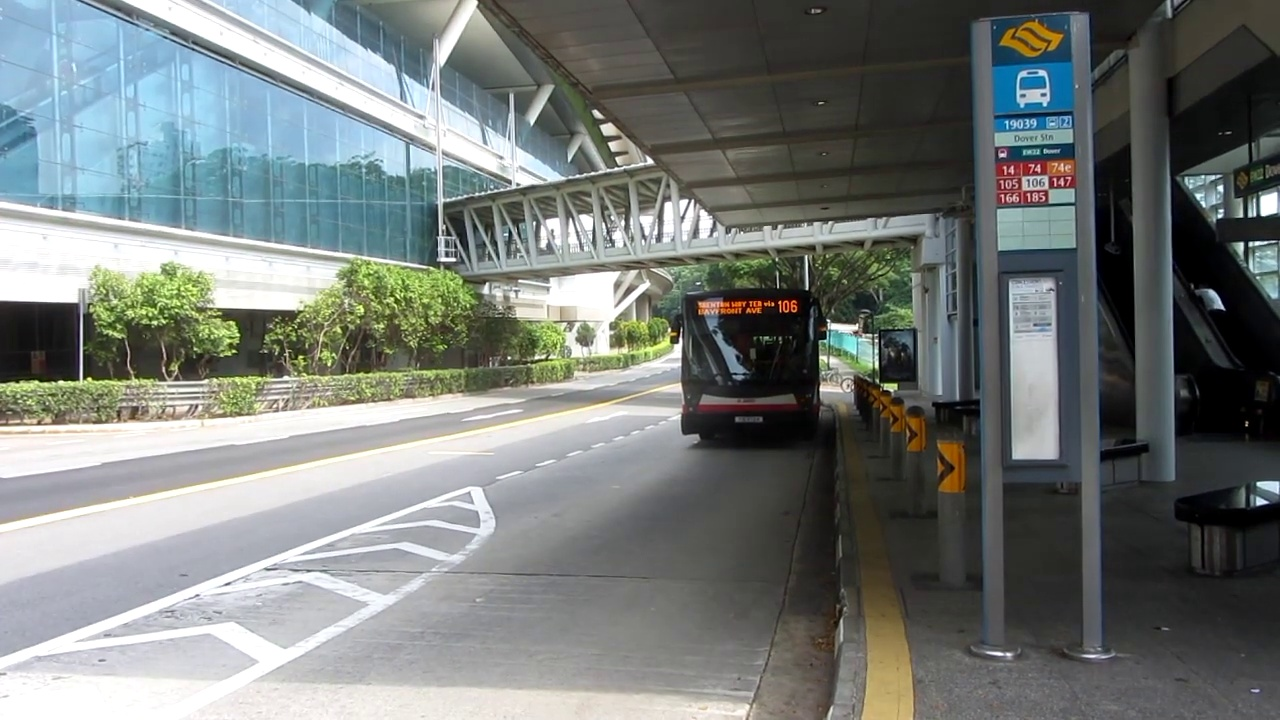bus panel: (693, 299, 801, 317)
